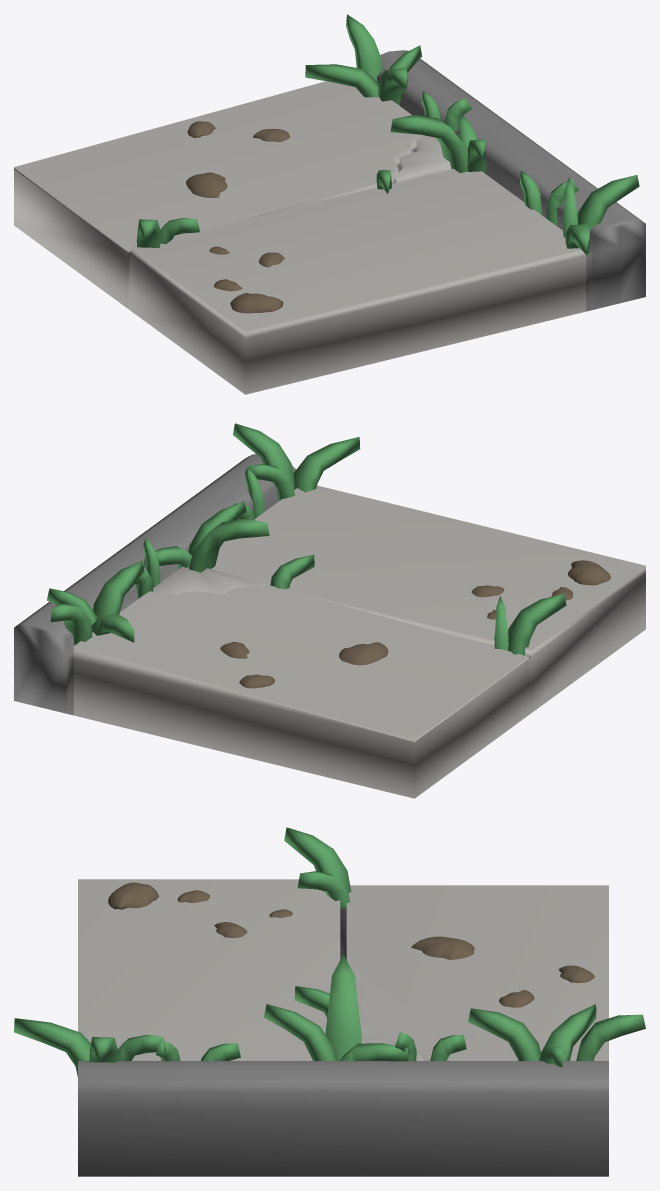
The model's file is sidewalktile1.fbx.
3 renders of one model, top to bottom at view 1: azimuth 30°, elevation 25°; view 2: azimuth 150°, elevation 25°; view 3: azimuth 270°, elevation 25°, orthographic. The views are drawn at different scales.
Parts seen in each view (by area): view 1: sidewalktile.001, Plane.035, Plane.029, Plane.020, Plane.022, Sphere.013, Plane.018, Sphere.007, Plane.024, Plane.023, Plane.031, Plane.034 (+3 smaller); view 2: sidewalktile.001, Plane.035, Plane.031, Plane.023, Plane.018, Plane.029, Plane.022, Sphere.007, Plane.030, Plane.034, Plane.032, Sphere.013 (+5 smaller); view 3: sidewalktile.001, Plane.035, Plane.018, Plane.031, Plane.034, Plane.023, Plane.022, Plane.020, Sphere.007, Sphere.013, Plane.033, Plane.024 (+5 smaller).
Boxes of the visible parts, x1,y1,x2,y2 form: sidewalktile.001: (14, 50, 645, 394); Plane.035: (390, 114, 468, 173); Plane.029: (577, 175, 639, 230); Plane.020: (305, 64, 378, 97); Plane.022: (346, 14, 382, 81); Sphere.013: (230, 293, 283, 313); Plane.018: (378, 68, 407, 105); Sphere.007: (186, 172, 227, 197); Plane.024: (160, 218, 199, 244); Plane.023: (136, 219, 160, 247); Plane.031: (565, 224, 590, 254); Plane.034: (467, 139, 486, 173); sidewalktile.001: (14, 454, 645, 798); Plane.035: (189, 518, 269, 572); Plane.031: (293, 437, 360, 492); Plane.023: (508, 594, 566, 655); Plane.018: (93, 560, 144, 619); Plane.029: (233, 423, 294, 489); Plane.022: (50, 603, 92, 645); Sphere.007: (339, 642, 388, 665); Plane.030: (245, 464, 295, 501); Plane.034: (188, 501, 246, 555); Plane.032: (270, 554, 314, 589); Sphere.013: (568, 560, 610, 585); sidewalktile.001: (78, 879, 608, 1176); Plane.035: (325, 954, 361, 1060); Plane.018: (468, 1008, 541, 1060); Plane.031: (14, 1018, 90, 1076); Plane.034: (263, 1004, 337, 1060); Plane.023: (284, 827, 351, 893); Plane.022: (576, 1014, 645, 1060); Plane.020: (541, 1004, 596, 1060); Sphere.007: (411, 936, 474, 959); Sphere.013: (108, 882, 158, 909); Plane.033: (339, 1043, 408, 1061); Plane.024: (297, 871, 350, 908).
Size of the model in its own units: 1.03 by 0.3025 by 1.19.
